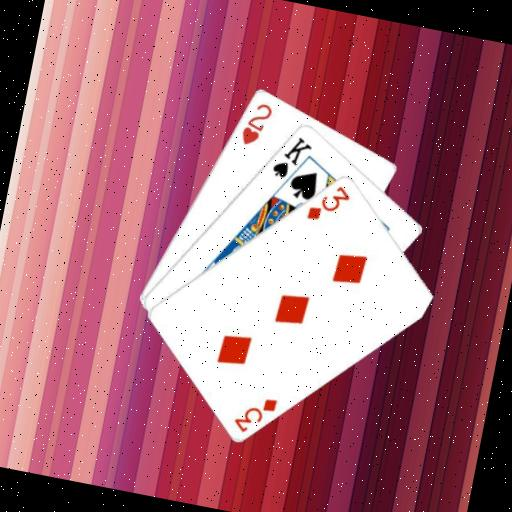2H: (237, 97, 276, 150)
3D: (303, 177, 354, 228), (229, 389, 280, 440)
KS: (267, 129, 316, 184)
